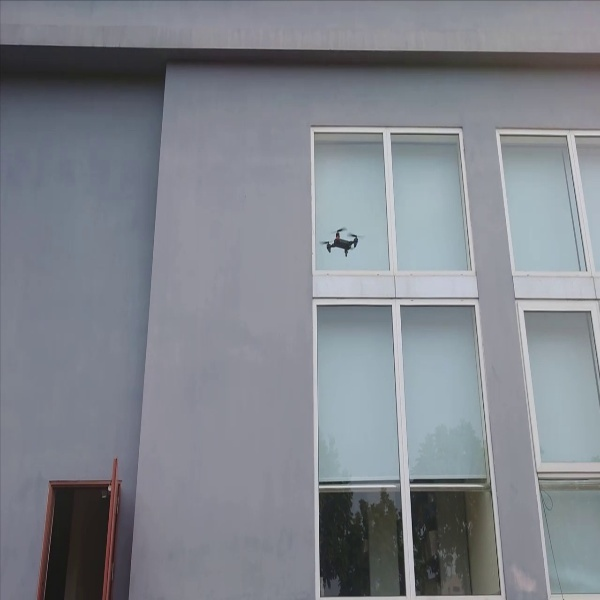drone: (313, 214, 367, 264)
